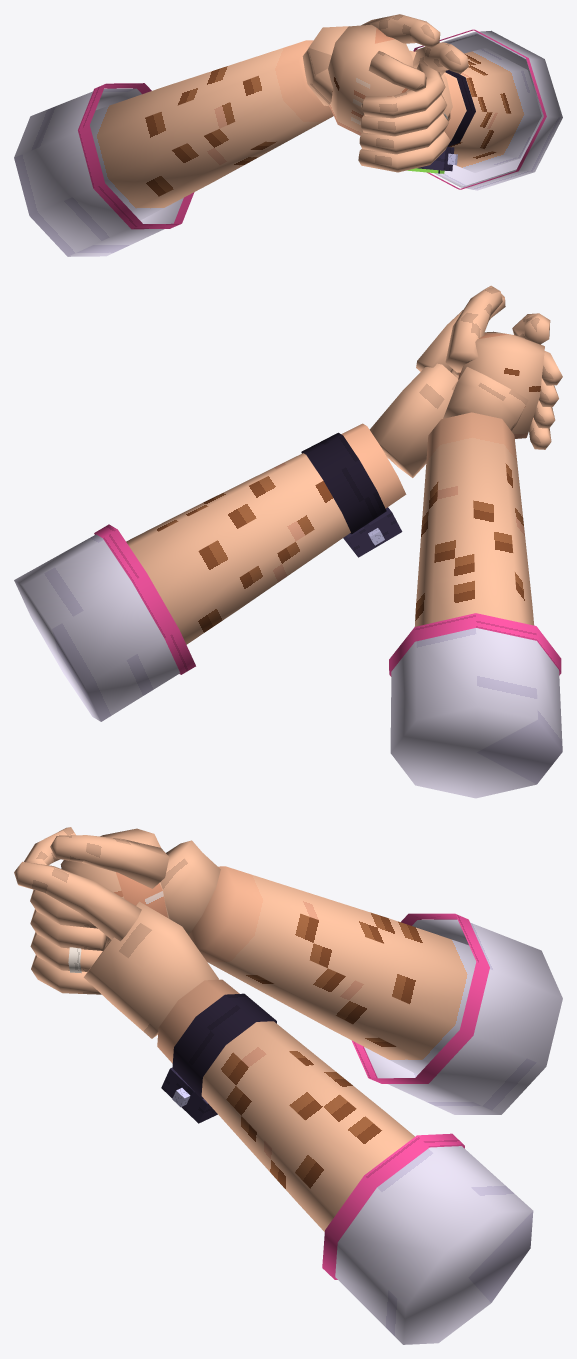
The model's file is Dad First-Person Arms.fbx.
3 views of the same model, one above another, from view 1: azimuth 30°, elevation 25°; view 2: azimuth 150°, elevation 25°; view 3: azimuth 270°, elevation 25° (orthographic). The views are drawn at different scales.
Parts seen in each view (by area): view 1: Dad First-Person Arms forearm R.001, Dad First-Person Arms sleeve R, Dad First-Person Arms forearm L.001, Dad First-Person Arms fist R, Dad First-Person Arms sleeve L, Dad First-Person Arms sleeve band R, Dad First-Person Arms finger L 0, Dad First-Person Arms palm R, Dad First-Person Arms finger L 3, Dad First-Person Arms finger L 2, Dad First-Person Arms finger L 1, Dad First-Person Arms thumb R (+6 smaller); view 2: Dad First-Person Arms sleeve R, Dad First-Person Arms forearm L.001, Dad First-Person Arms forearm R.001, Dad First-Person Arms sleeve L, Dad First-Person Arms palm L, Dad First-Person Arms fist R, Dad First-Person Arms watch strap, Dad First-Person Arms sleeve band L, Dad First-Person Arms palm R, Dad First-Person Arms sleeve band R, Dad First-Person Arms thumb R, Dad First-Person Arms watch case (+2 smaller); view 3: Dad First-Person Arms forearm R.001, Dad First-Person Arms sleeve L, Dad First-Person Arms forearm L.001, Dad First-Person Arms sleeve R, Dad First-Person Arms palm L, Dad First-Person Arms watch strap, Dad First-Person Arms thumb L, Dad First-Person Arms thumb R, Dad First-Person Arms sleeve band R, Dad First-Person Arms palm R, Dad First-Person Arms sleeve band L, Dad First-Person Arms fist R (+6 smaller).
Boxes of the visible parts, x1,y1,x2,y2 form: Dad First-Person Arms forearm R.001: (90,40,333,220); Dad First-Person Arms sleeve R: (14,88,183,256); Dad First-Person Arms forearm L.001: (443,48,541,172); Dad First-Person Arms fist R: (328,24,412,135); Dad First-Person Arms sleeve L: (434,30,562,190); Dad First-Person Arms sleeve band R: (78,83,194,229); Dad First-Person Arms finger L 0: (361,63,445,118); Dad First-Person Arms palm R: (302,26,348,106); Dad First-Person Arms finger L 3: (358,131,450,172); Dad First-Person Arms finger L 2: (359,113,448,154); Dad First-Person Arms finger L 1: (360,94,446,136); Dad First-Person Arms thumb R: (361,14,440,48); Dad First-Person Arms sleeve R: (390,628,562,798); Dad First-Person Arms forearm L.001: (126,423,406,644); Dad First-Person Arms forearm R.001: (414,412,534,626); Dad First-Person Arms sleeve L: (14,534,179,721); Dad First-Person Arms palm L: (369,363,458,477); Dad First-Person Arms fist R: (458,331,544,438); Dad First-Person Arms watch strap: (301,432,386,533); Dad First-Person Arms sleeve band L: (94,524,195,674); Dad First-Person Arms palm R: (443,367,528,431); Dad First-Person Arms sleeve band R: (389,613,561,676); Dad First-Person Arms thumb R: (445,285,502,372); Dad First-Person Arms watch case: (343,507,402,557); Dad First-Person Arms forearm R.001: (188,866,476,1074); Dad First-Person Arms sleeve L: (335,1146,533,1344); Dad First-Person Arms forearm L.001: (157,979,414,1231); Dad First-Person Arms sleeve R: (364,919,562,1114); Dad First-Person Arms palm L: (83,901,218,1038); Dad First-Person Arms watch strap: (172,993,276,1098); Dad First-Person Arms thumb L: (14,861,141,941); Dad First-Person Arms thumb R: (50,835,169,888); Dad First-Person Arms sleeve band R: (351,913,489,1083); Dad First-Person Arms palm R: (160,840,220,935); Dad First-Person Arms sleeve band L: (322,1133,464,1279); Dad First-Person Arms fist R: (60,828,169,943).
Size of the model in its own units: 0.5481 by 0.3389 by 0.4343.
Materials: 10 (10 with a texture image).
